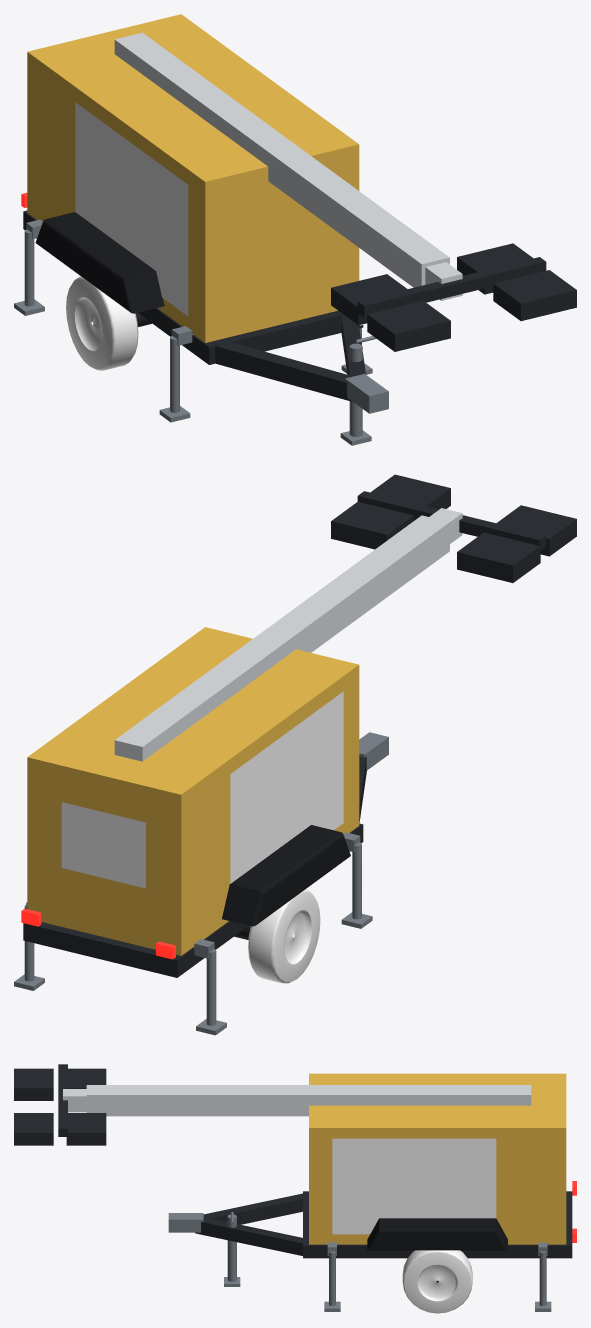
Rendered from equipment--lightTower_stowed.glb.
3 renders of one model, top to bottom at view 1: azimuth 30°, elevation 25°; view 2: azimuth 150°, elevation 25°; view 3: azimuth 270°, elevation 25°, orthographic. The views are drawn at different scales.
Parts seen in each view (by area): view 1: lightTower:shell, mast, lamps, axle, outrigger2, outrigger4, jack, mastUpper; view 2: lightTower:shell, mast, lamps, controlPanel, axle, outrigger4, outrigger2, outrigger3; view 3: lightTower:shell, mast, lamps, axle, outrigger3, jack, outrigger1, mastUpper.
Part boxes in pixels (bbox=[...]): lightTower:shell: bbox=[23, 14, 388, 413]; mast: bbox=[114, 32, 449, 287]; lamps: bbox=[331, 243, 576, 351]; axle: bbox=[66, 276, 138, 370]; outrigger2: bbox=[159, 326, 193, 422]; outrigger4: bbox=[14, 219, 44, 315]; jack: bbox=[340, 336, 376, 445]; mastUpper: bbox=[425, 262, 462, 300]; lightTower:shell: bbox=[23, 627, 388, 977]; mast: bbox=[114, 515, 449, 761]; lamps: bbox=[331, 474, 576, 583]; controlPanel: bbox=[61, 802, 145, 888]; axle: bbox=[248, 889, 320, 983]; outrigger4: bbox=[193, 939, 226, 1035]; outrigger2: bbox=[341, 832, 372, 928]; outrigger3: bbox=[14, 902, 44, 990]; lightTower:shell: bbox=[168, 1073, 572, 1282]; mast: bbox=[86, 1085, 531, 1116]; lamps: bbox=[14, 1064, 106, 1146]; axle: bbox=[402, 1250, 472, 1313]; outrigger3: bbox=[535, 1242, 551, 1311]; jack: bbox=[224, 1212, 240, 1286]; outrigger1: bbox=[324, 1242, 340, 1311]; mastUpper: bbox=[63, 1089, 86, 1112].
Size of the model in its own units: 1.58 by 1.77 by 4.81.
